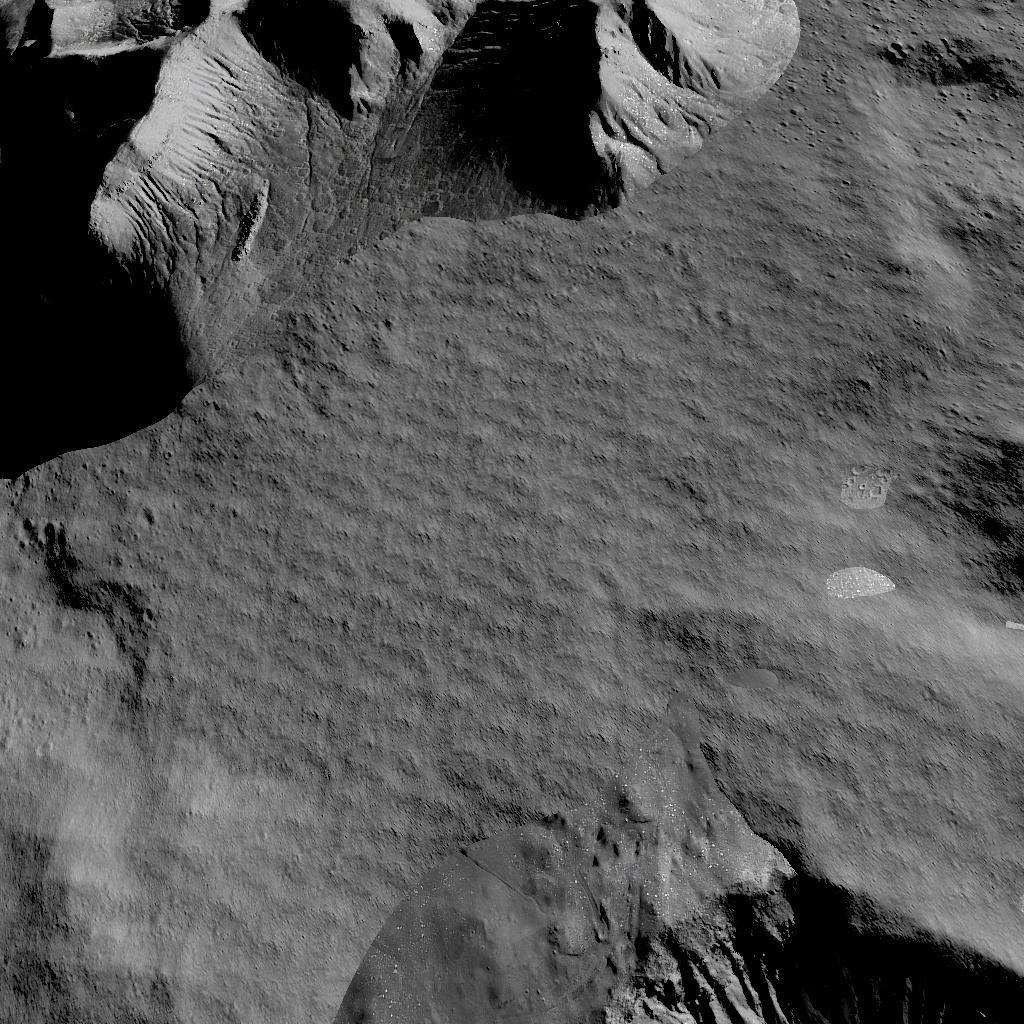Boulders: (5, 0, 814, 394)
Crater: (421, 814, 1024, 1024), (947, 424, 1024, 612), (880, 30, 916, 78)
Plan surface: (1, 486, 398, 1024), (426, 414, 916, 764), (841, 108, 1024, 374)
